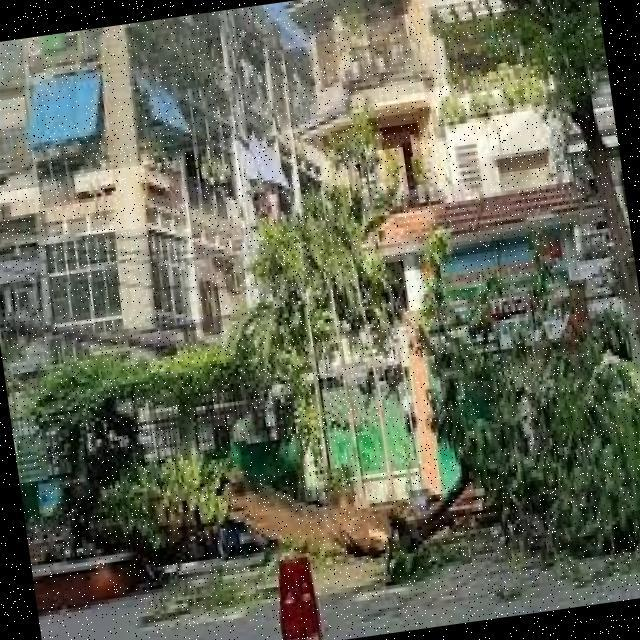fallen_object: (32, 272, 640, 640)
